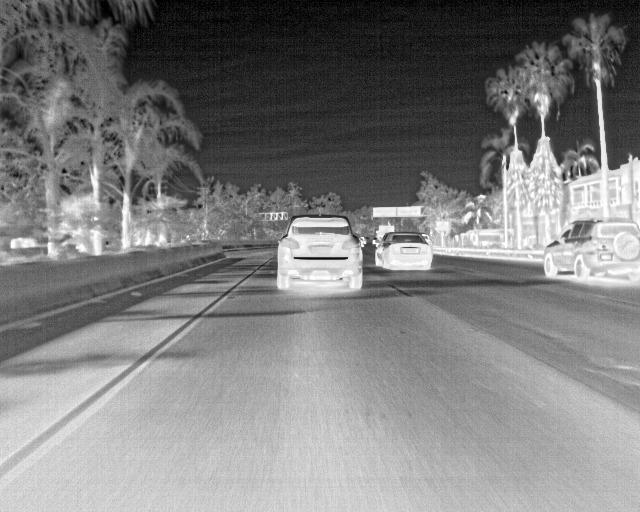car: (277, 212, 360, 290), (542, 220, 637, 283), (376, 232, 432, 269)
